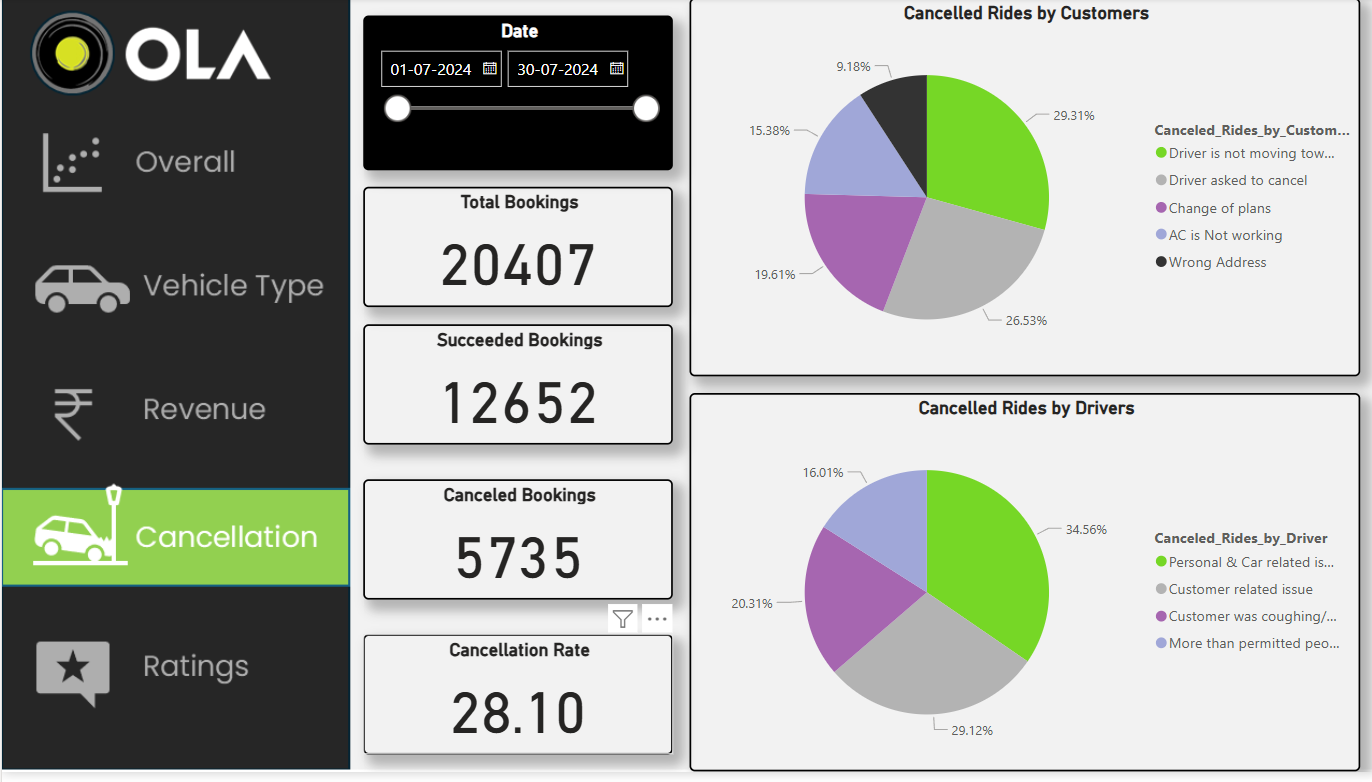

Layout of this report page (visuals, bound fields, positions):
{"tool":"powerbi","page":{"name":"Cancellation","canvas":[1280,720],"ordinal":3},"visuals":[{"type":"actionButton","box":[0,208,320,96],"z":0},{"type":"actionButton","box":[0,336,320,96],"z":1000},{"type":"actionButton","box":[0,464,320,80],"z":2000},{"type":"actionButton","box":[0,592,320,80],"z":3000},{"type":"actionButton","box":[0,112,320,80],"z":4000},{"type":"pieChart","title":"Cancelled Rides by Customers","fields":{"Category":["ola bookings.Canceled_Rides_by_Customer"],"Y":["CountNonNull(ola bookings.Canceled_Rides_by_Customer)"]},"box":[640,0,624,352],"z":5000},{"type":"pieChart","title":"Cancelled Rides by Drivers","fields":{"Category":["ola bookings.Canceled_Rides_by_Driver"],"Y":["CountNonNull(ola bookings.Canceled_Rides_by_Driver)"]},"box":[640,368,624,352],"z":6000},{"type":"slicer","title":"Date","fields":{"Values":["ola bookings.Date"]},"box":[336,16,288,144],"z":7000},{"type":"card","title":"Total Bookings","fields":{"Values":["CountNonNull(ola bookings.Booking_ID)"]},"box":[336,176,288,112],"z":8000},{"type":"card","title":"Succeeded Bookings","fields":{"Values":["CountNonNull(ola bookings.Booking_ID)"]},"box":[336,304,288,112],"z":9000},{"type":"card","title":"Canceled Bookings","fields":{"Values":["CountNonNull(ola bookings.Booking_ID)"]},"box":[336,448,288,112],"z":10000},{"type":"card","title":"Cancellation Rate","fields":{"Values":["ola bookings.CanceledPercentage"]},"box":[336,592,288,112],"z":11000}]}

Visuals, with their boxes on the page's 1280x720 design canvas (x1, y1, x2, y2). These are canvas units, not pixel positions in the 1372x782 screenshot, which may show the page scaled, cropped or inside an application window:
actionButton: x1=0, y1=208, x2=320, y2=304
actionButton: x1=0, y1=336, x2=320, y2=432
actionButton: x1=0, y1=464, x2=320, y2=544
actionButton: x1=0, y1=592, x2=320, y2=672
actionButton: x1=0, y1=112, x2=320, y2=192
"Cancelled Rides by Customers" pieChart: x1=640, y1=0, x2=1264, y2=352
"Cancelled Rides by Drivers" pieChart: x1=640, y1=368, x2=1264, y2=720
"Date" slicer: x1=336, y1=16, x2=624, y2=160
"Total Bookings" card: x1=336, y1=176, x2=624, y2=288
"Succeeded Bookings" card: x1=336, y1=304, x2=624, y2=416
"Canceled Bookings" card: x1=336, y1=448, x2=624, y2=560
"Cancellation Rate" card: x1=336, y1=592, x2=624, y2=704
